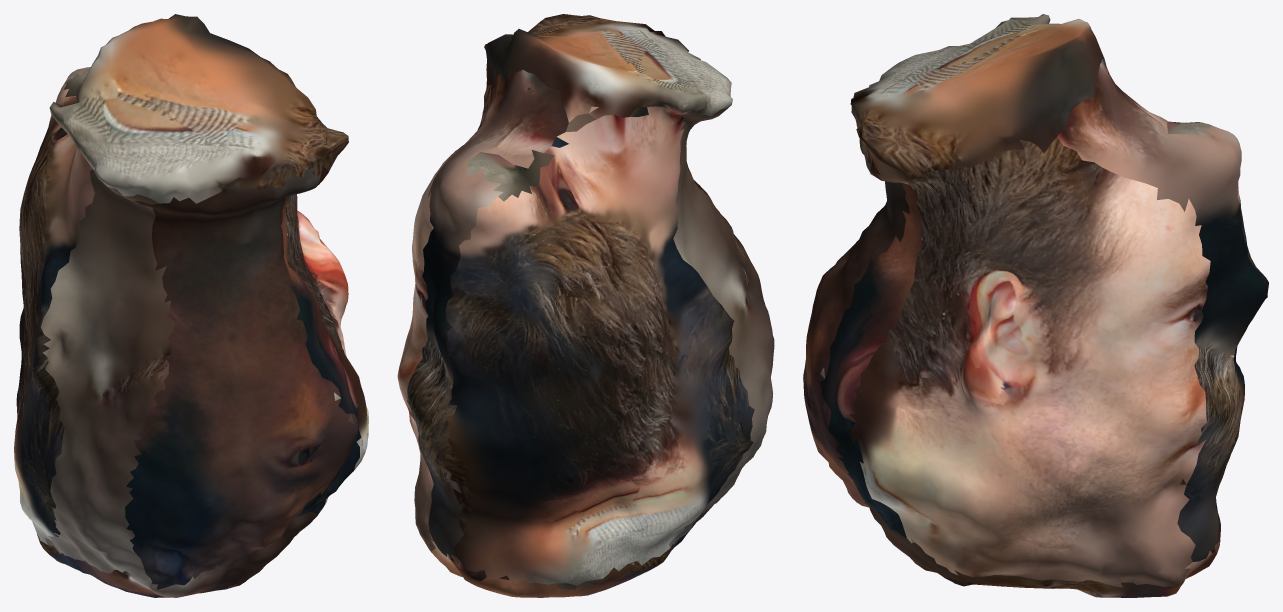
File: Damian.obj
The picture shows the model from 3 angles, left to right: view 1: azimuth 30°, elevation 25°; view 2: azimuth 150°, elevation 25°; view 3: azimuth 270°, elevation 25°; orthographic projection. The views are drawn at different scales.
Visible parts, largest first — view 1: mesh; view 2: mesh; view 3: mesh.
Boxes of the visible parts, left/top/right/bottom form: mesh: left=14, top=14, right=368, bottom=597; mesh: left=397, top=14, right=774, bottom=597; mesh: left=803, top=14, right=1268, bottom=597.
Size of the model in its own units: 0.3007 by 0.5044 by 0.3847.
